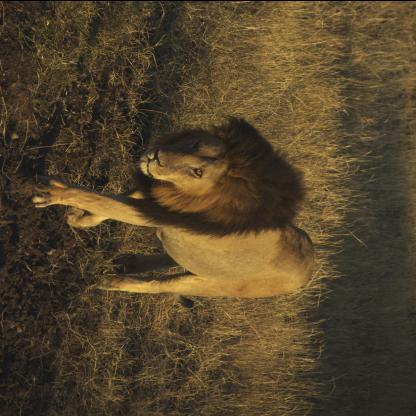lion: (136, 111, 260, 207)
